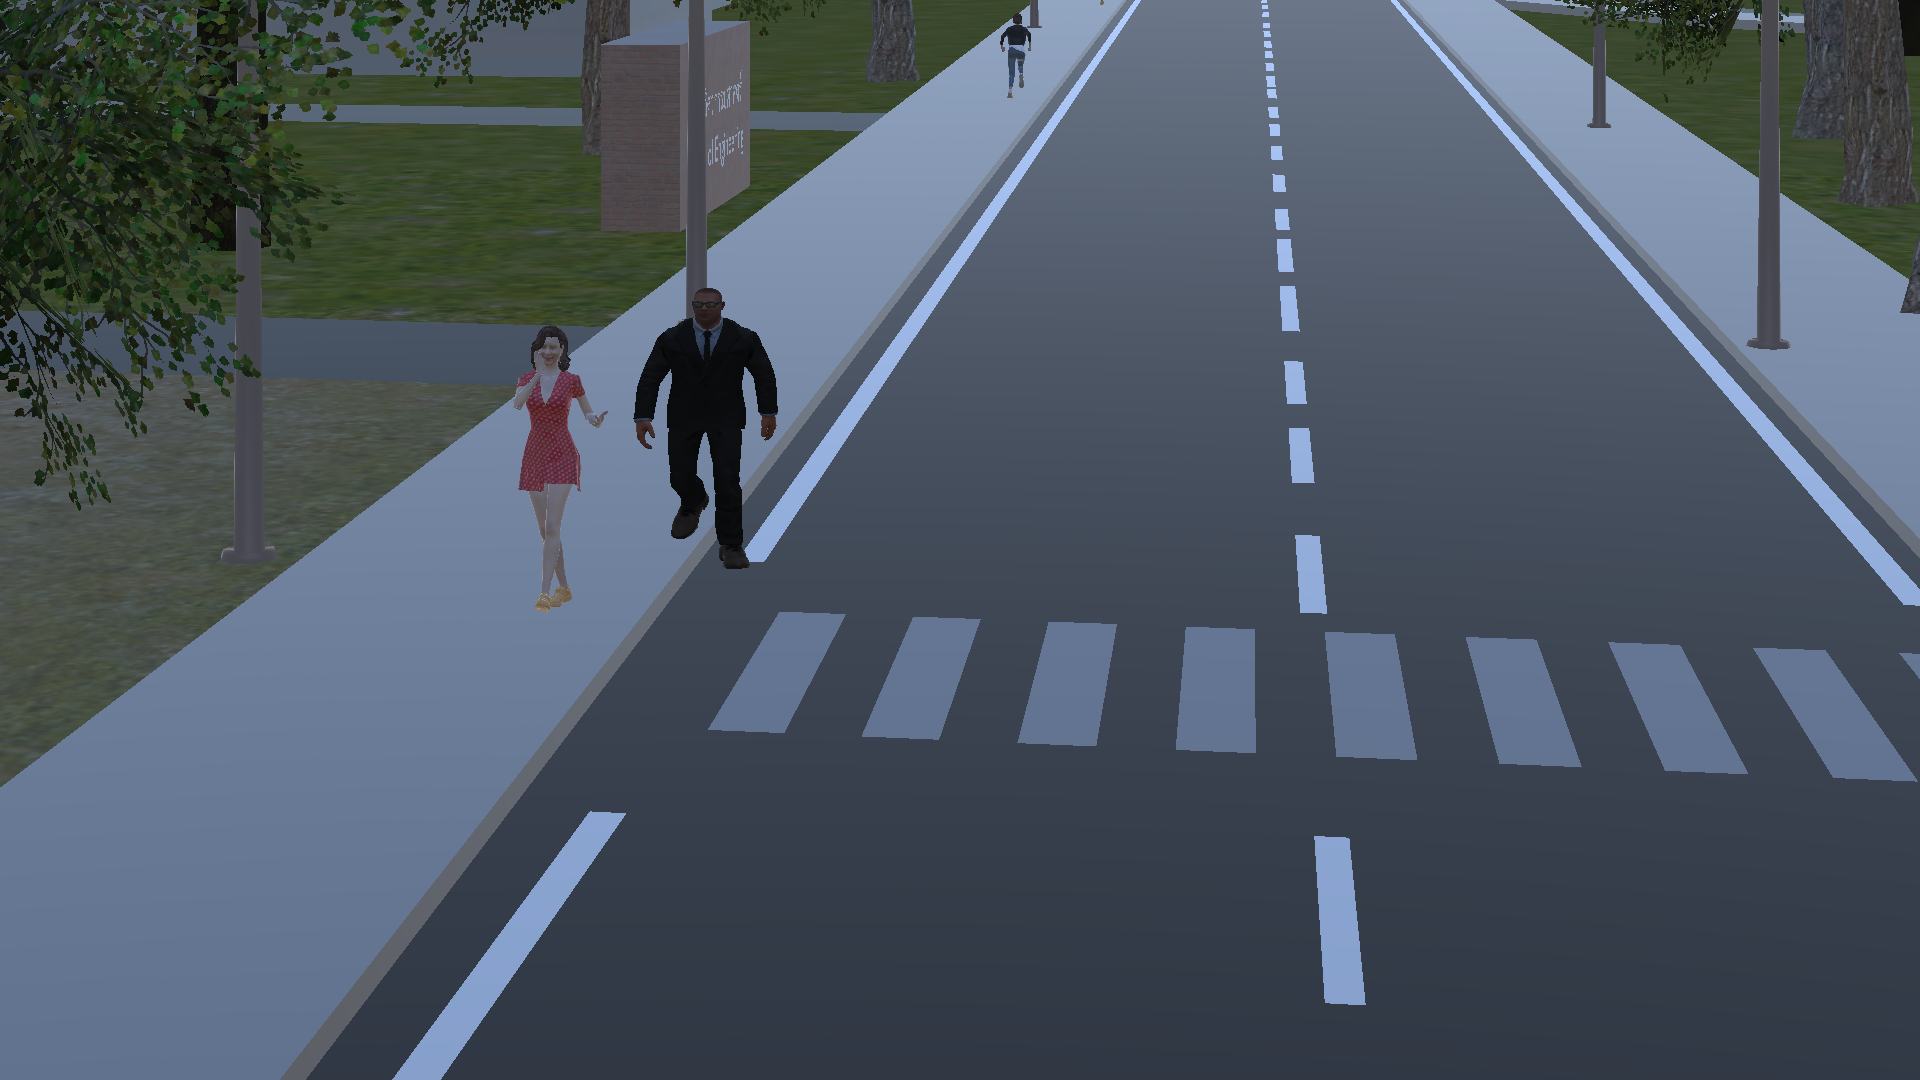pedestrian: (624, 278, 836, 592), (500, 316, 605, 622), (988, 7, 1038, 106)
